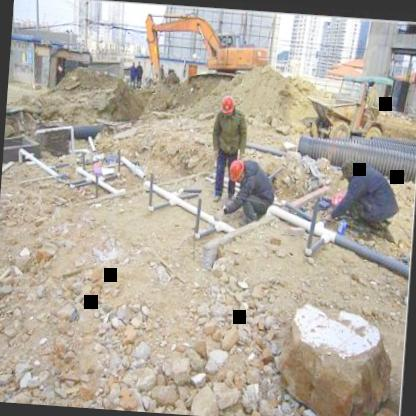helmet: (229, 155, 248, 188), (220, 97, 237, 119)
